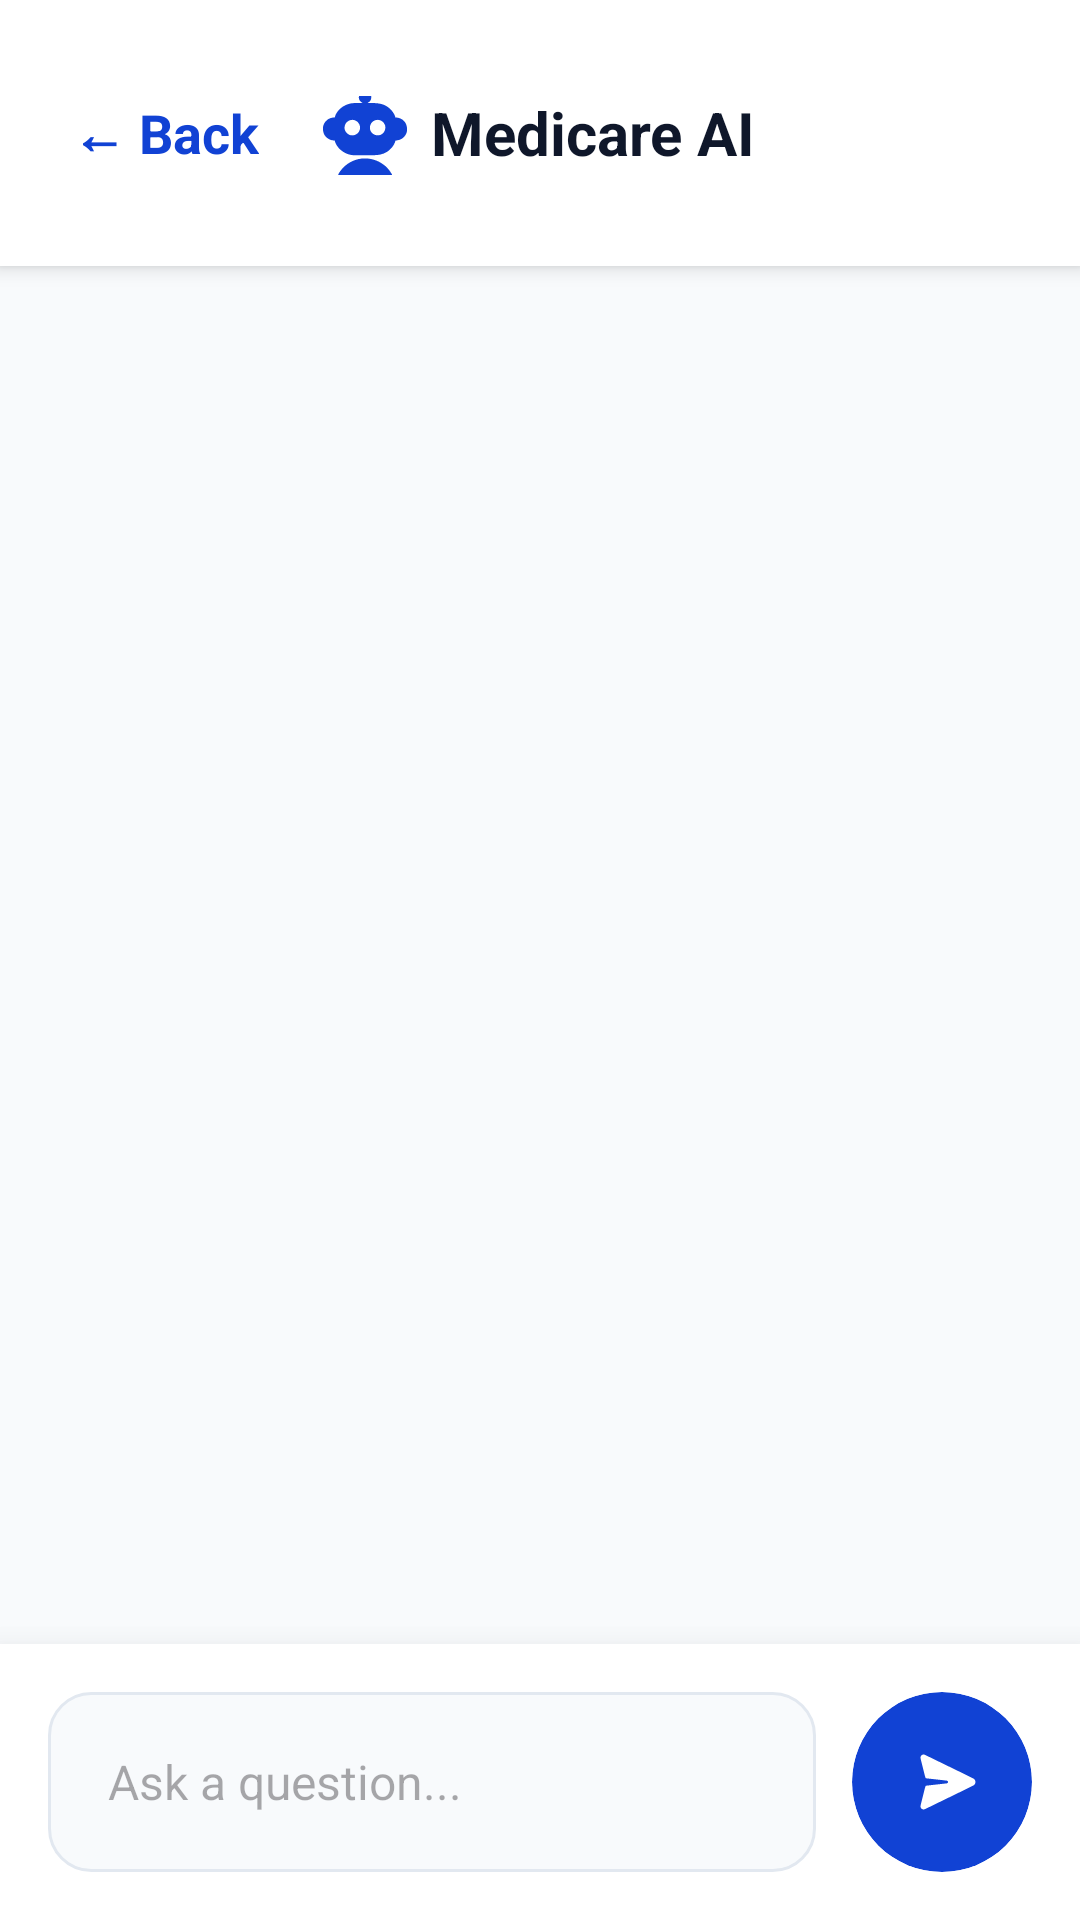

Icon click points for this 1080×1920 phone screenshot, format (x=x, y=y):
send: (x=948, y=1782)
